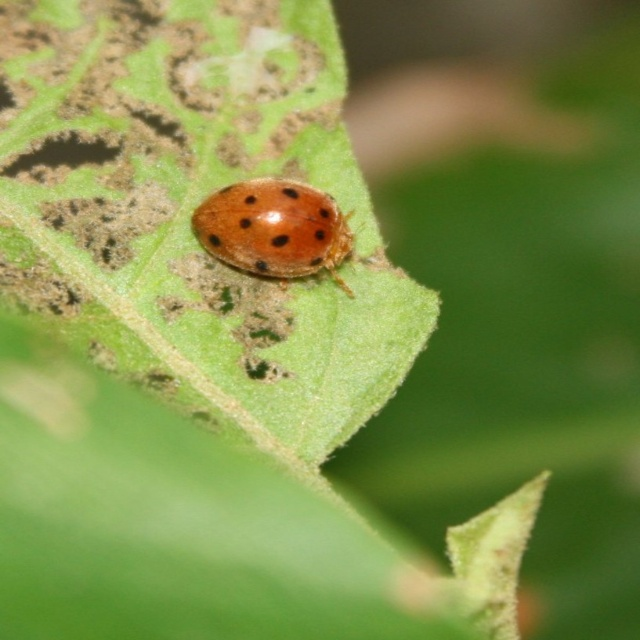Ladybug: (186, 175, 358, 294)
